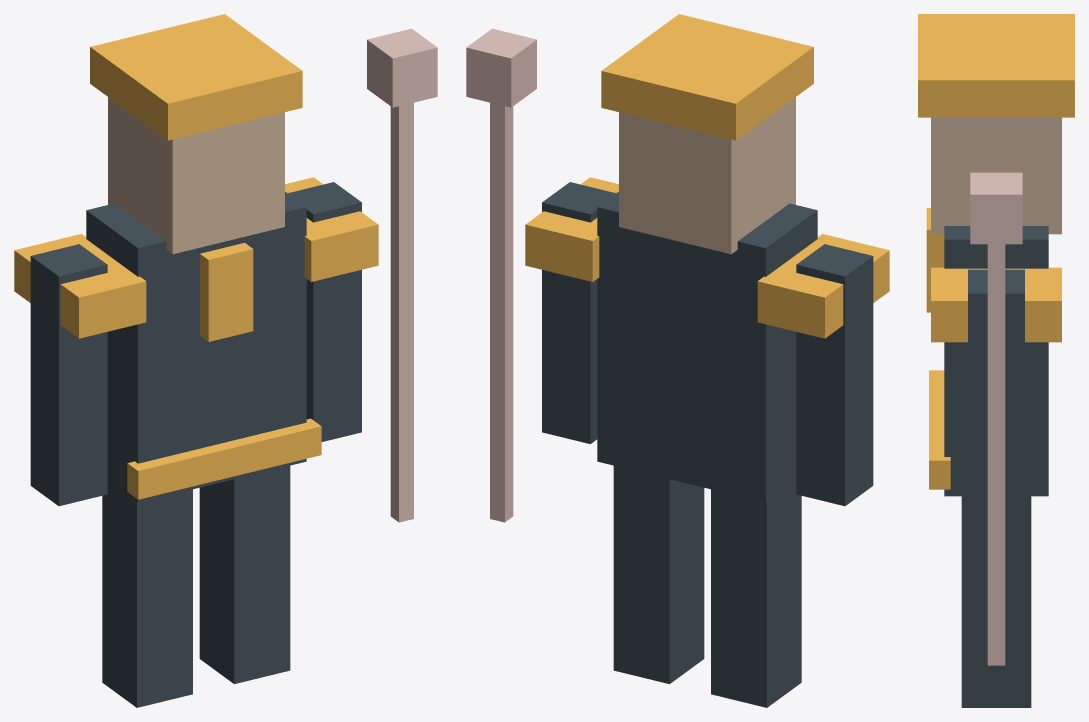
Rendered from 06_thorne_voxmere_cartographer_under_containment.glb.
3 renders of one model, left to right at view 1: azimuth 30°, elevation 25°; view 2: azimuth 150°, elevation 25°; view 3: azimuth 270°, elevation 25°, orthographic.
Visible parts, largest first — view 1: Thorne Voxmere, Cartographer under Containment; view 2: Thorne Voxmere, Cartographer under Containment; view 3: Thorne Voxmere, Cartographer under Containment.
Boxes of the visible parts, x1,y1,x2,y2 form: Thorne Voxmere, Cartographer under Containment: [14, 14, 437, 707]; Thorne Voxmere, Cartographer under Containment: [466, 14, 889, 707]; Thorne Voxmere, Cartographer under Containment: [918, 14, 1074, 707].
Bounding box in the file's own units: 1.02 × 1.59 × 0.3624.
